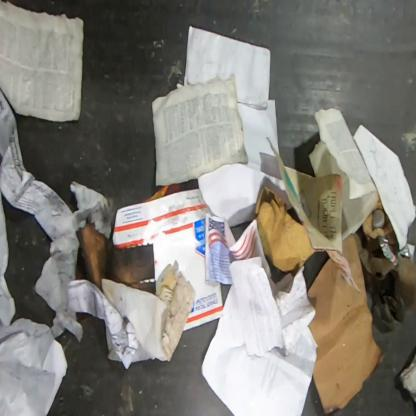cardboard: (112, 188, 224, 332), (307, 233, 386, 415), (254, 186, 316, 273), (362, 210, 398, 246), (372, 190, 384, 212)
rigid_plastic: (377, 235, 411, 268), (372, 208, 385, 229)
